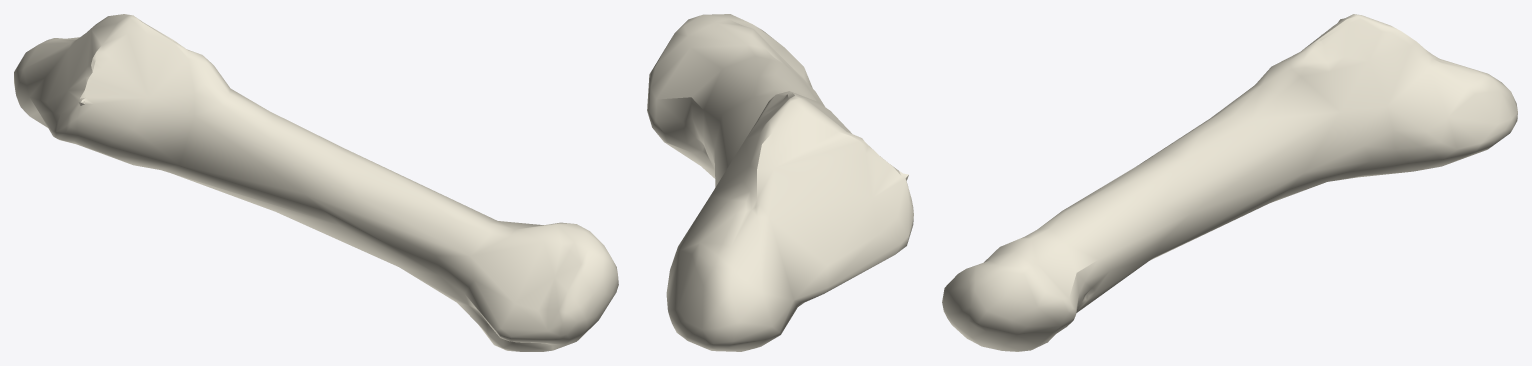
Rendered from fma24516_fj6364.glb.
3 renders of one model, left to right at view 1: azimuth 30°, elevation 25°; view 2: azimuth 150°, elevation 25°; view 3: azimuth 270°, elevation 25°, orthographic. The views are drawn at different scales.
Visible parts, largest first — view 1: FMA24516_FJ6364; view 2: FMA24516_FJ6364; view 3: FMA24516_FJ6364.
Boxes of the visible parts, left/top/right/bottom form: FMA24516_FJ6364: left=14, top=14, right=618, bottom=351; FMA24516_FJ6364: left=647, top=14, right=913, bottom=351; FMA24516_FJ6364: left=942, top=14, right=1517, bottom=351.
Bounding box in the file's own units: 0.0459 × 0.03 × 0.0658.
